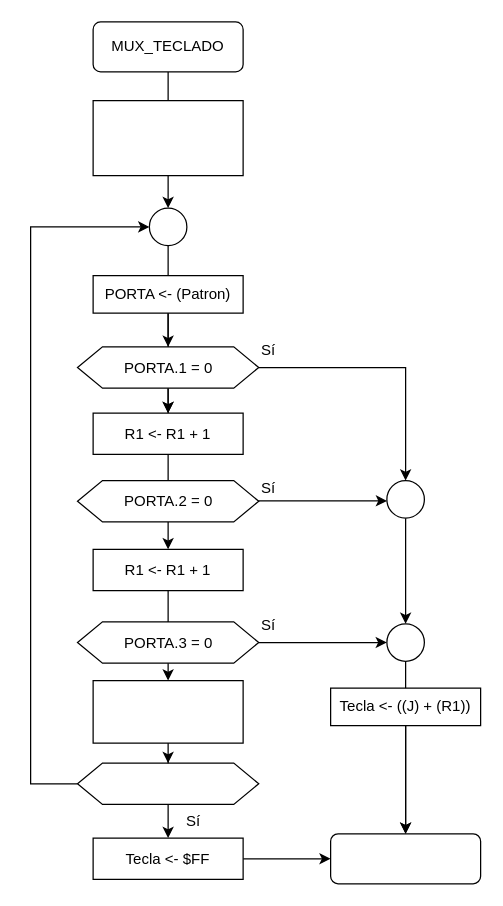
Some shapes in this 503 by 906 pixel diagram are drawn without their labels. Each missing label, with the centre of its shape:
"J <- Teclas R1 <- 0 Patron <- $EF" goes at point 167,137.
"Patron = $F0" goes at point 167,783.
"R1 <- R1 + 1 C <- (Patron) <- 0" goes at point 167,711.
"Retorno" goes at point 405,858.
